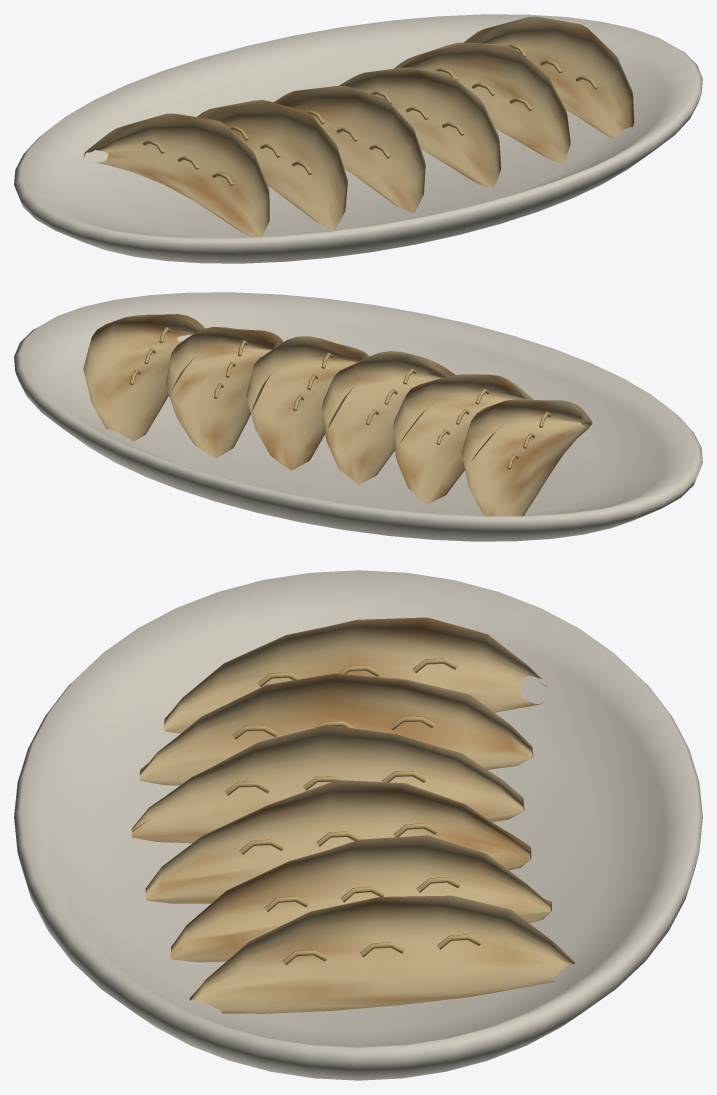
File: fried.glb
3 views of the same model, one above another, from view 1: azimuth 30°, elevation 25°; view 2: azimuth 150°, elevation 25°; view 3: azimuth 270°, elevation 25° (orthographic). The views are drawn at different scales.
Parts seen in each view (by area): view 1: Tianjin_fried; view 2: Tianjin_fried; view 3: Tianjin_fried.
Part boxes in pixels (left/top/right/bottom): Tianjin_fried: left=14, top=14, right=702, bottom=263; Tianjin_fried: left=14, top=292, right=702, bottom=541; Tianjin_fried: left=14, top=570, right=702, bottom=1080.
Size of the model in its own units: 0.378 by 0.0531 by 0.226.
